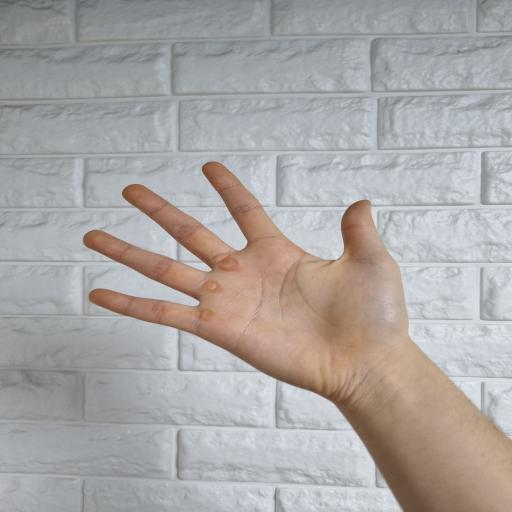Paper: (82, 161, 512, 512)
